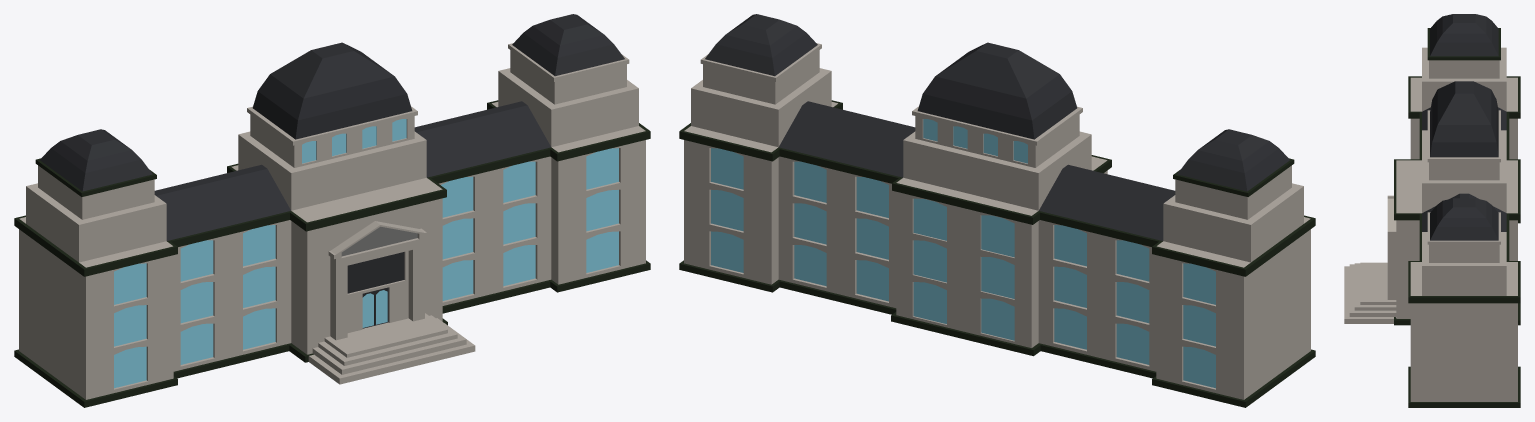
File: SM_Government_01_A.gltf
The picture shows the model from 3 angles, left to right: view 1: azimuth 30°, elevation 25°; view 2: azimuth 150°, elevation 25°; view 3: azimuth 270°, elevation 25°; orthographic projection. The views are drawn at different scales.
Parts seen in each view (by area): view 1: SM_Government_01_A; view 2: SM_Government_01_A; view 3: SM_Government_01_A.
Part boxes in pixels (x1,y1,x2,y2): SM_Government_01_A: (14,14,650,407); SM_Government_01_A: (679,14,1315,407); SM_Government_01_A: (1344,14,1520,407).
Bounding box in the file's own units: 7.45 × 3.3 × 2.51.
